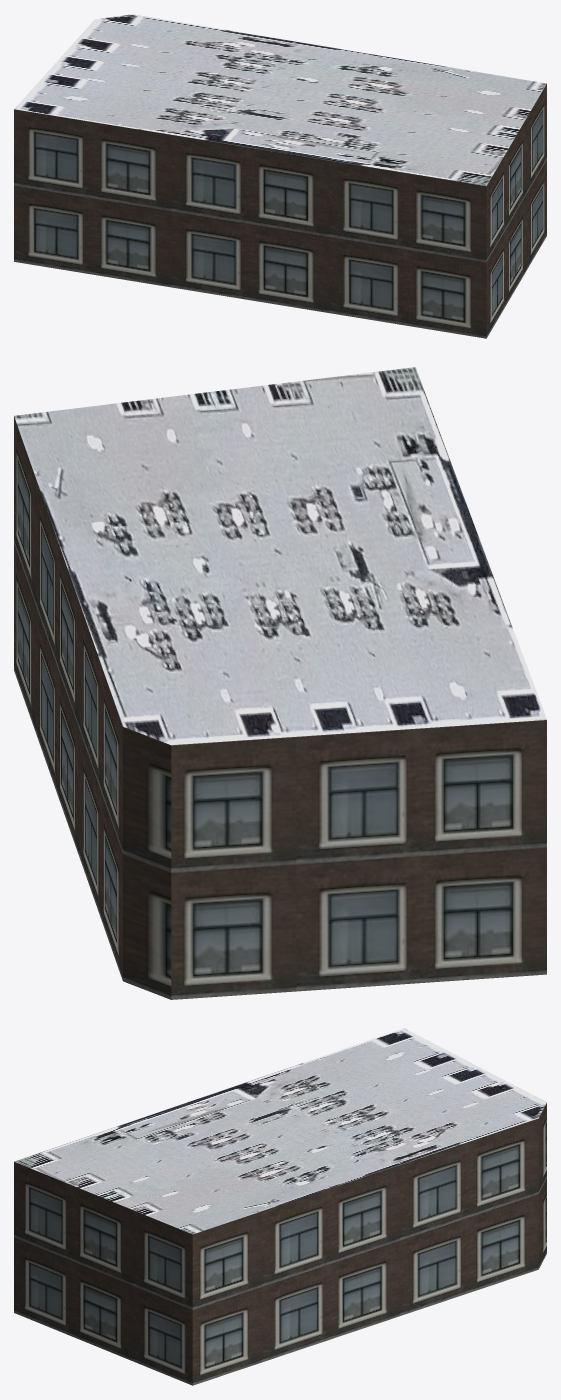
File: ResTex__2504.fbx
3 views of the same model, one above another, from view 1: azimuth 30°, elevation 25°; view 2: azimuth 150°, elevation 25°; view 3: azimuth 270°, elevation 25° (orthographic). The views are drawn at different scales.
Visible parts, largest first — view 1: CityEngineMaterial_16_m, CityEngineMaterial_15_m; view 2: CityEngineMaterial_15_m, CityEngineMaterial_16_m; view 3: CityEngineMaterial_16_m, CityEngineMaterial_15_m.
Part boxes in pixels (x1=…): CityEngineMaterial_16_m: x1=14, y1=84, x2=546, y2=338; CityEngineMaterial_15_m: x1=14, y1=14, x2=546, y2=185; CityEngineMaterial_15_m: x1=14, y1=367, x2=546, y2=745; CityEngineMaterial_16_m: x1=14, y1=416, x2=546, y2=999; CityEngineMaterial_16_m: x1=14, y1=1103, x2=546, y2=1385; CityEngineMaterial_15_m: x1=14, y1=1028, x2=546, y2=1234.
Bounding box in the file's own units: 17.54 × 6 × 19.16.
2 materials, 2 textured.
